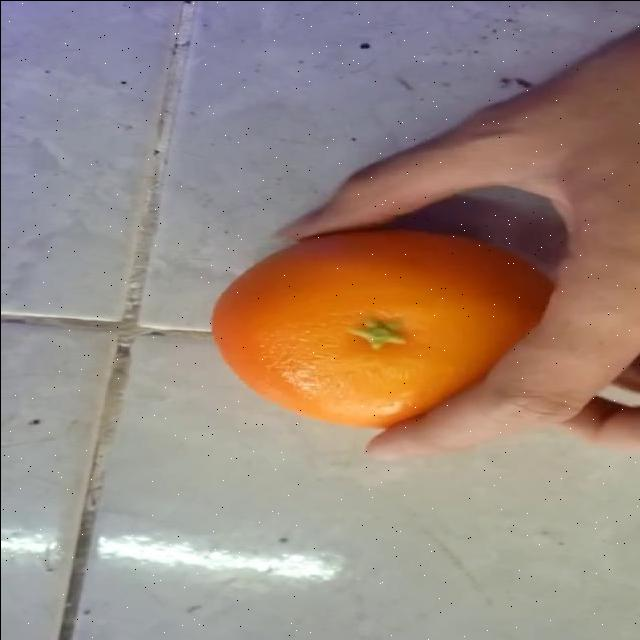Orange: (210, 228, 555, 430)
